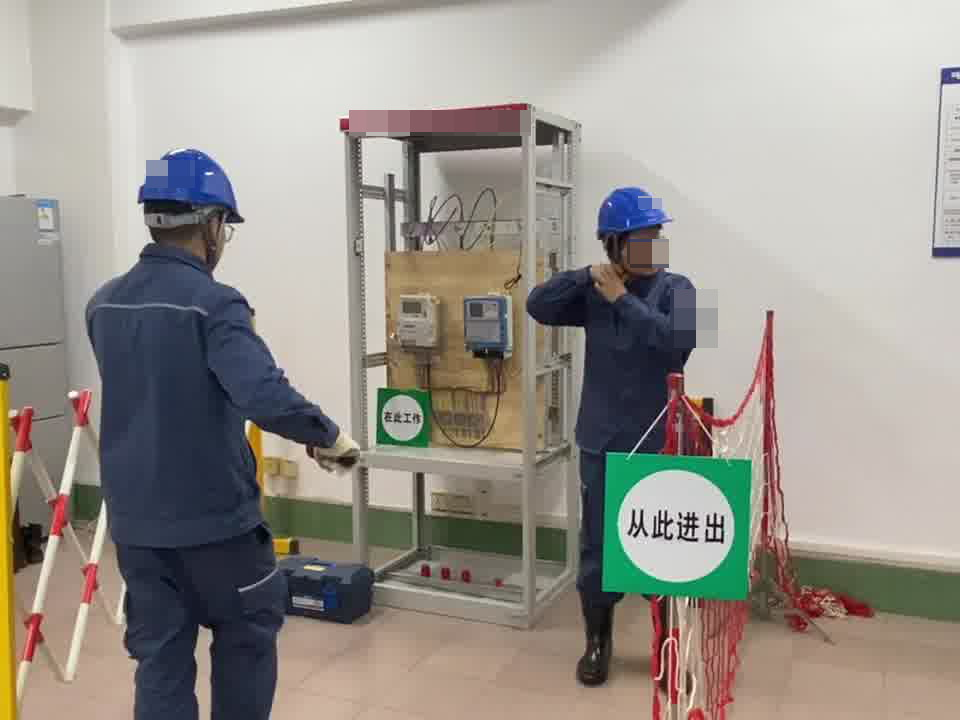downsuit: (117, 555, 285, 720)
halt: (135, 145, 245, 267), (595, 185, 673, 274)
hand: (592, 266, 624, 304)
inear: (200, 211, 226, 252)
intosign: (599, 453, 753, 592)
person: (79, 143, 357, 720), (522, 182, 710, 652)
shoe: (573, 591, 658, 678)
sleeve: (673, 299, 700, 323)
upsuit: (87, 253, 334, 543), (528, 263, 702, 448)
wglove: (311, 434, 359, 470)
worksign: (373, 386, 428, 447)
